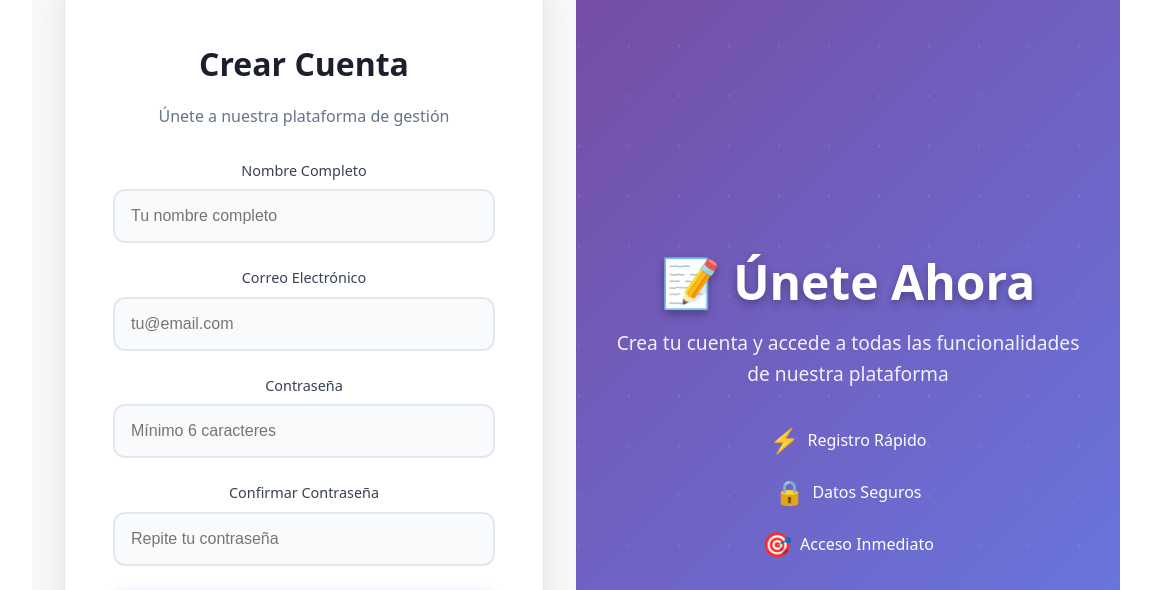
Test: Register Component › valida que las contraseñas coincidan
Type "Test User" into the field labelled "Nombre Completo" at point(304, 216), box [113,189,495,243]
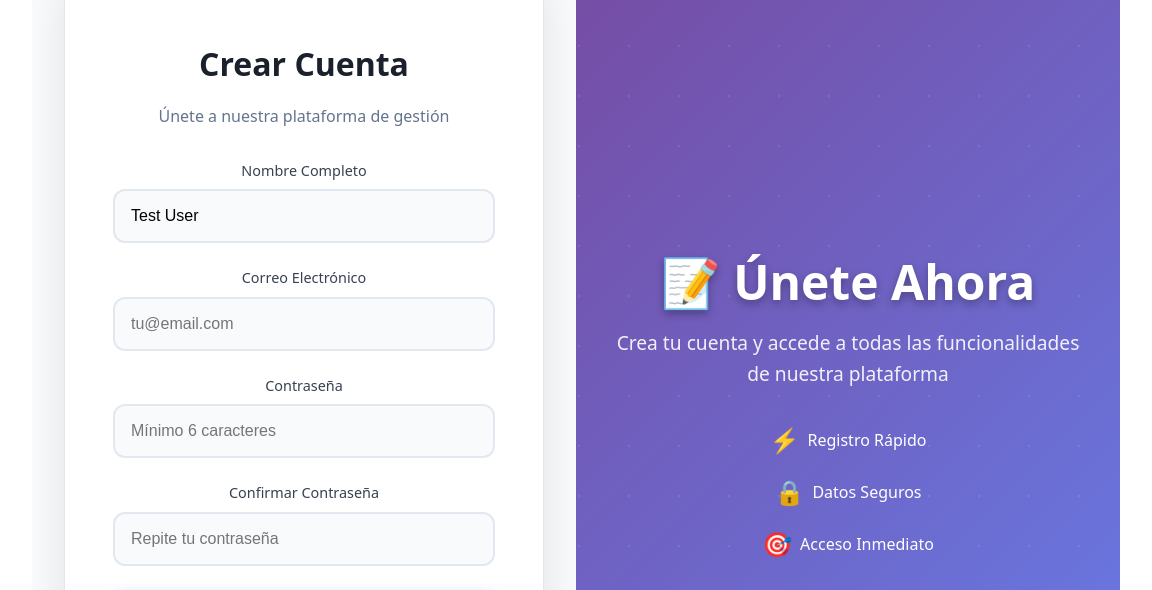
Type "test@test.com" into the field labelled "Correo Electrónico" at point(304, 324), box [113,297,495,351]
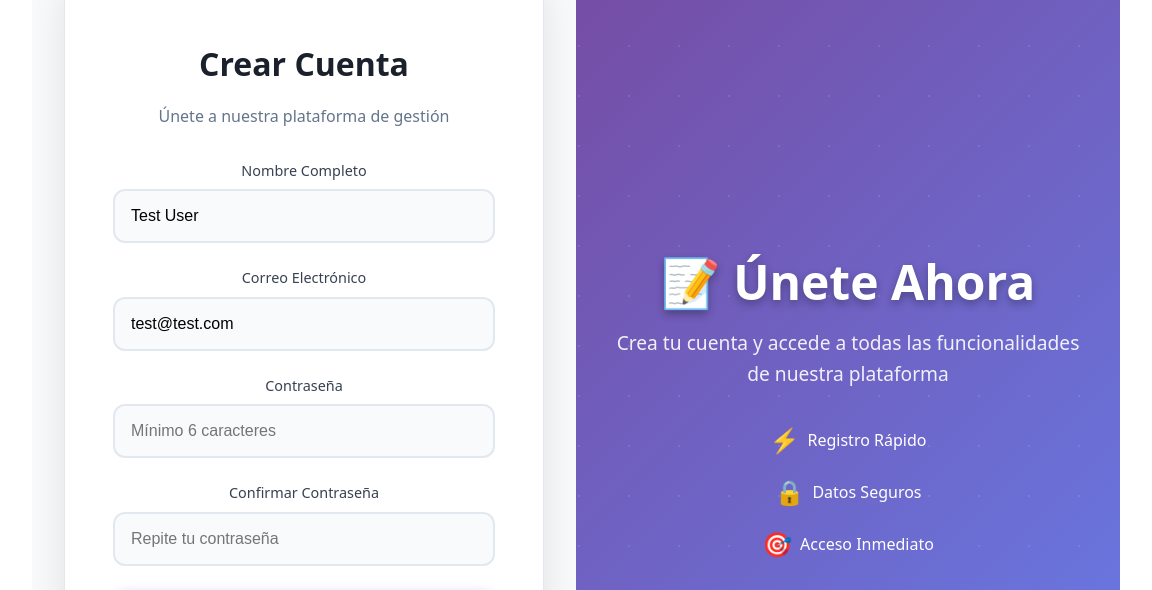
Type "password123" into the password field labelled "Contraseña" at point(304, 431), box [113,404,495,458]
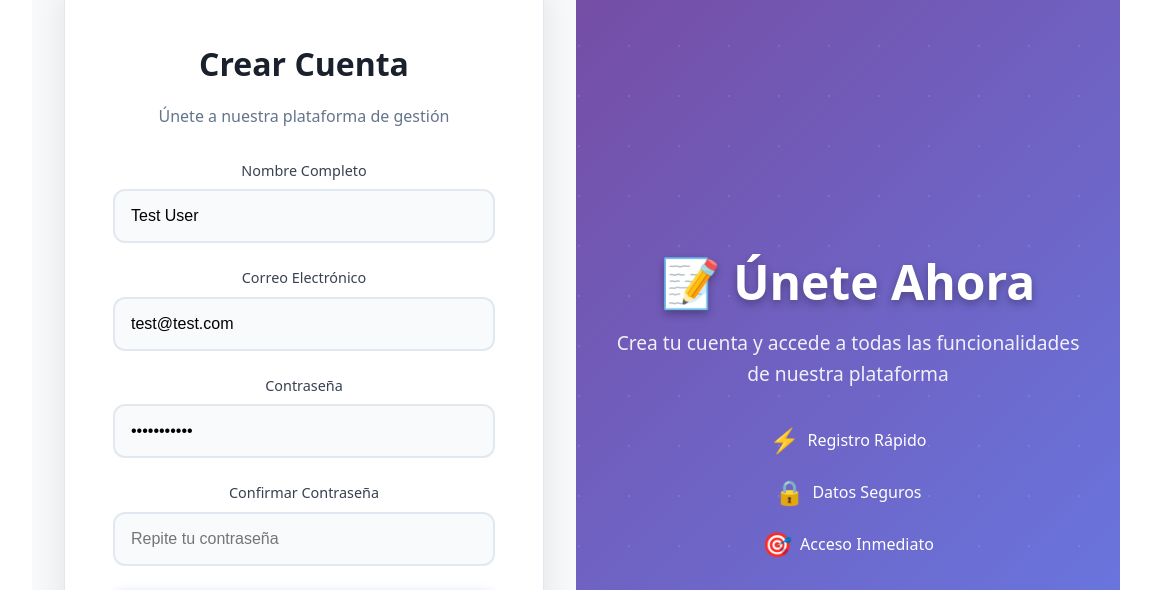
Type "password456" into the password field labelled "Confirmar Contraseña" at point(304, 539), box [113,512,495,566]
(page scrolled)
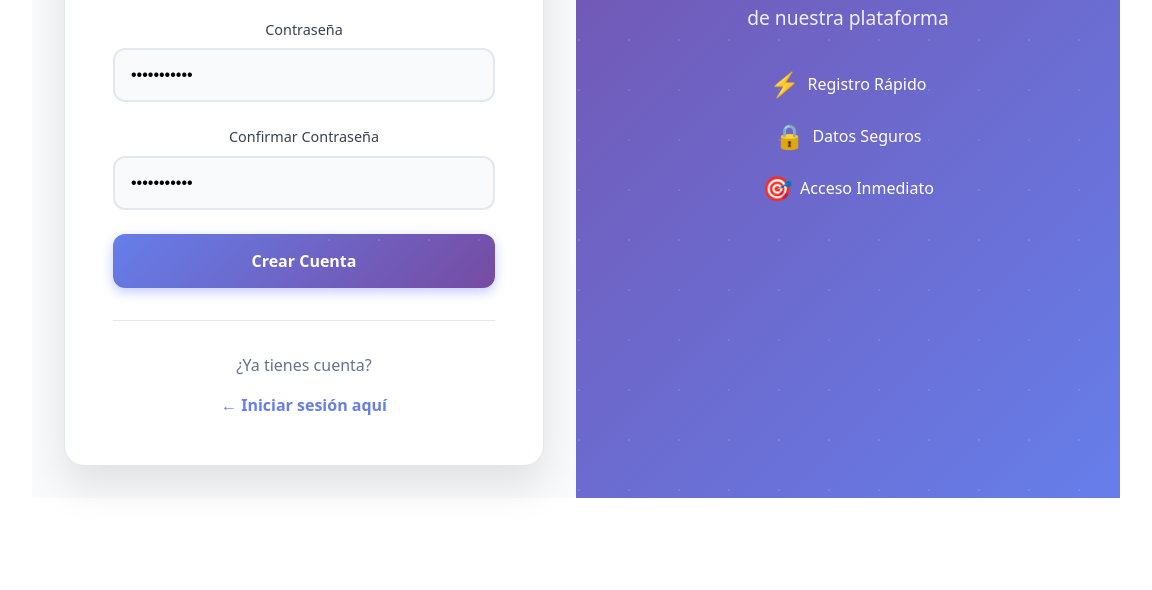
Click the button "Crear Cuenta" at point(304, 261), box [113,234,495,288]
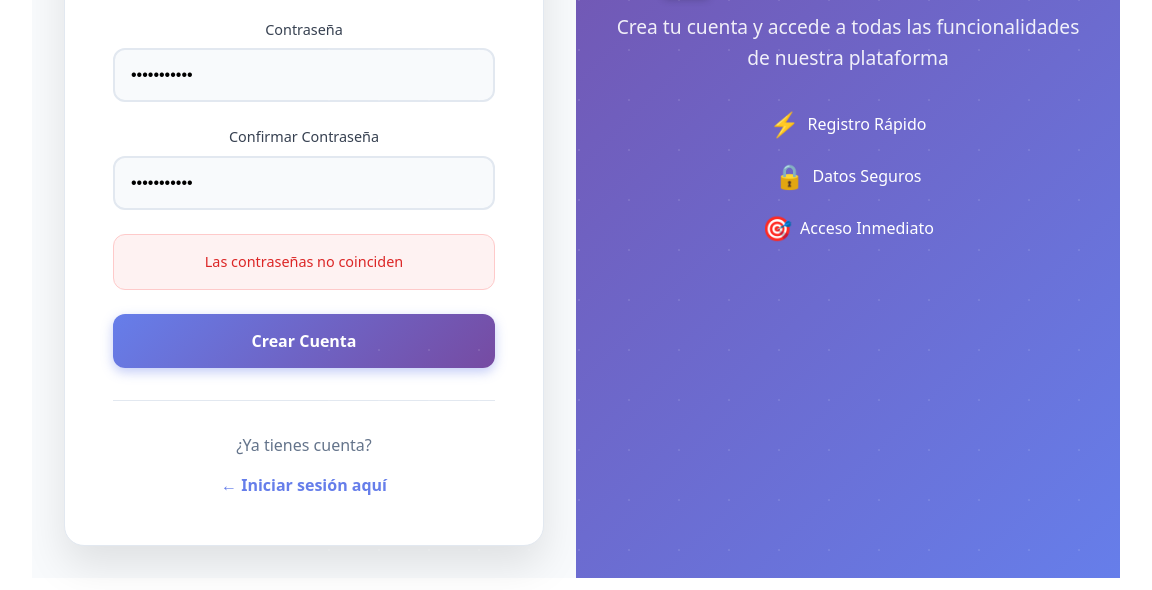
Result: the text "Las contraseñas no coinciden" is shown at [113,234,495,290]
